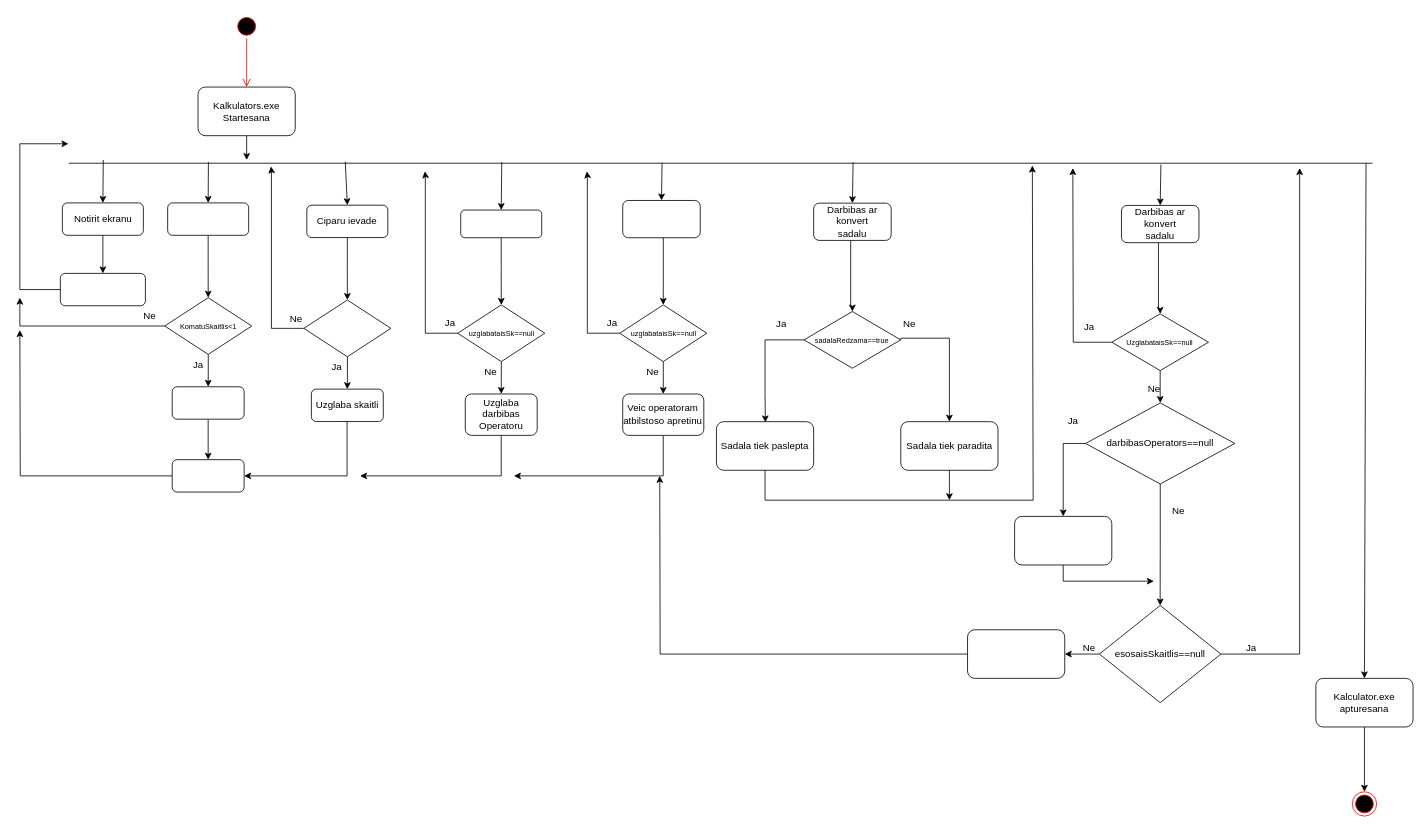
Some shapes in this 1427 by 830 pixel diagram are drawn without their labels. Each missing label, with the centre of its shape:
Aritmetiska operatora izvele: the point at 501,223
Atjauna ekranu: the point at 1063,540
Atjaunina Ekranu: the point at 207,475
Atsledz Komata poga: the point at 207,402
CiparuSkaits<1: the point at 347,328
Komata iedade: the point at 208,218
Piesledzes komata pogu: the point at 102,289
Specialas darbibas operatora izvele: the point at 661,219
Veic aprekinu: the point at 1016,653
